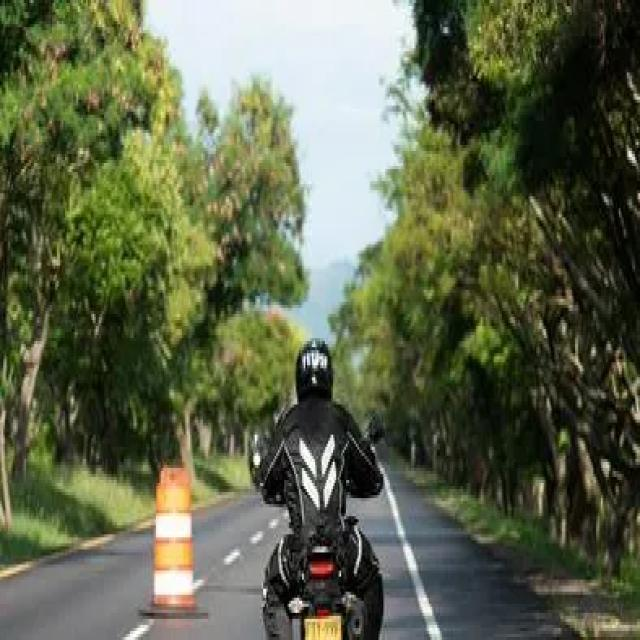MOTORCYCLE: (256, 406, 383, 640)
